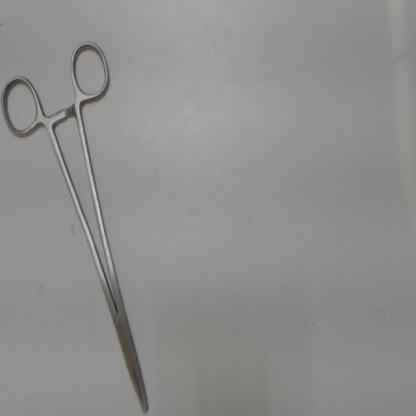8 Mayo Needle Holder: (0, 34, 157, 415)
